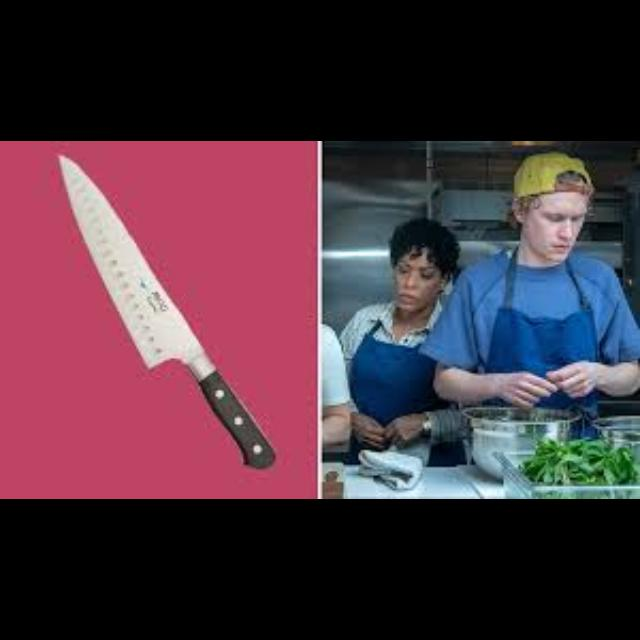knife: (56, 154, 274, 468), (428, 148, 640, 464), (343, 201, 467, 459), (319, 272, 356, 478)
